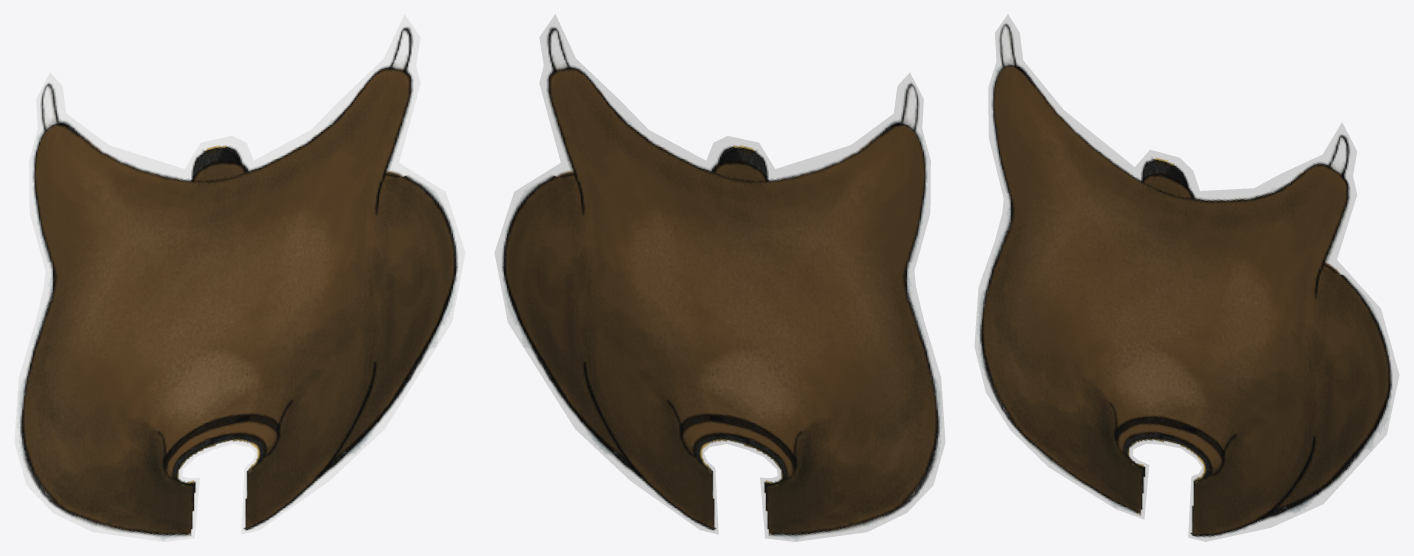
3 renders of one model, left to right at view 1: azimuth 30°, elevation 25°; view 2: azimuth 150°, elevation 25°; view 3: azimuth 330°, elevation 25°, orthographic. The views are drawn at different scales.
Visible parts, largest first — view 1: Plane; view 2: Plane; view 3: Plane.
Part boxes in pixels (x1,y1,x2,y2): Plane: (14,14,465,541); Plane: (494,14,945,541); Plane: (974,14,1399,541).
Size of the model in its own units: 2.93 by 3.16 by 0.
Materials: 1 (1 with a texture image).
